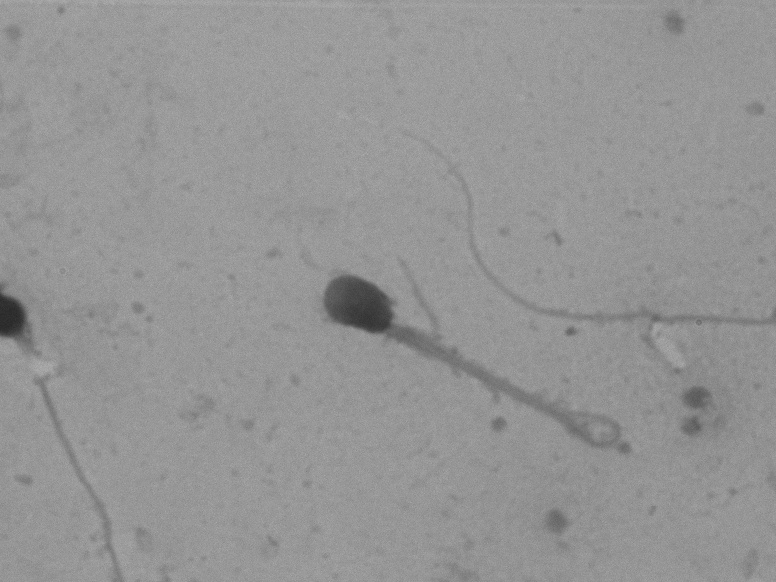Abnormal: (269, 232, 625, 505)
